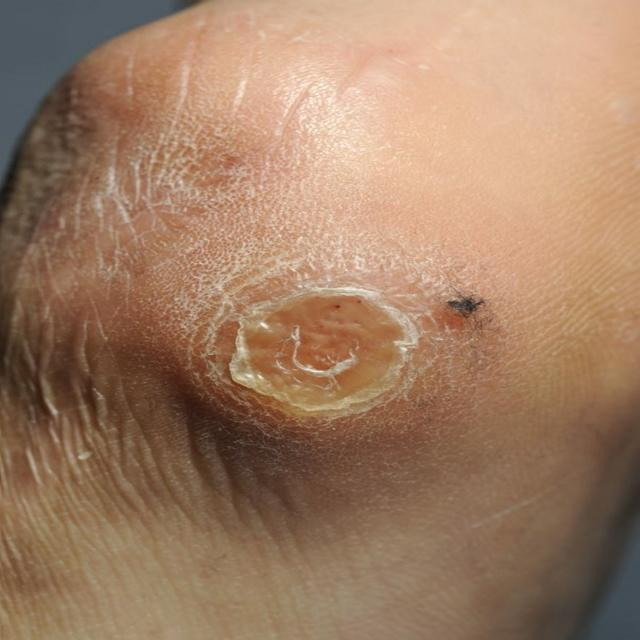wound: (225, 286, 422, 416)
